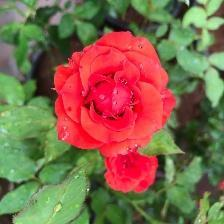rose: (53, 30, 177, 157), (105, 144, 160, 195)
